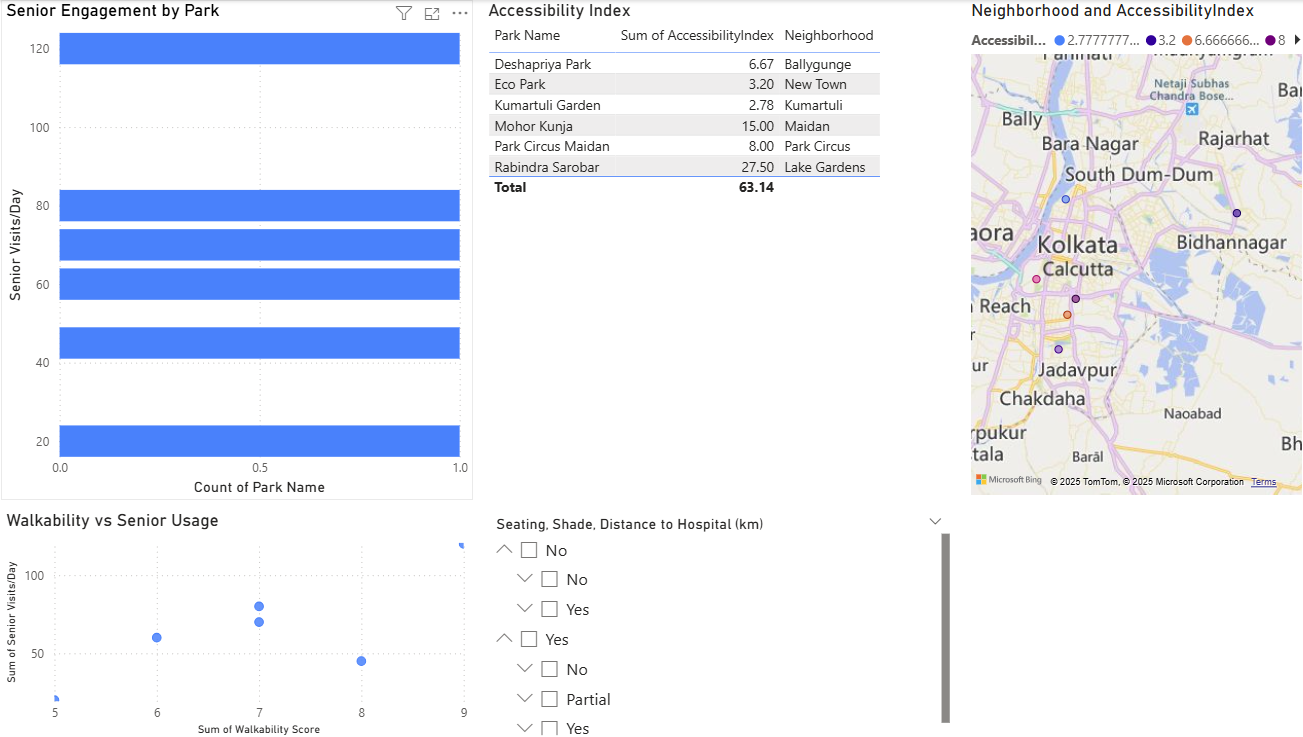

This screenshot's page, from the dashboard's own definition file:
{"tool":"powerbi","page":{"name":"Page 1","canvas":[1280,720],"ordinal":0},"visuals":[{"type":"barChart","title":"Senior Engagement by Park","fields":{"Y":["CountNonNull(Sheet1.Park Name)"],"Category":["Sheet1.Senior Visits/Day"]},"box":[9.7,0,459.1,486.3],"z":0},{"type":"scatterChart","title":"Walkability vs Senior Usage","fields":{"X":["Sum(Sheet1.Walkability Score)"],"Y":["Sum(Sheet1.Senior Visits/Day)"],"Category":["Sheet1.Park Name"]},"box":[10,496,459,224],"z":1000},{"type":"tableEx","title":"Accessibility Index","fields":{"Values":["Sheet1.Park Name","Sum(Sheet1.AccessibilityIndex)","Sheet1.Neighborhood"]},"box":[479,0,459,486],"z":2000},{"type":"slicer","fields":{"Values":["Sheet1.Seating","Sheet1.Shade","Sheet1.Distance to Hospital (km)"]},"box":[479,496,459,224],"z":3000},{"type":"map","fields":{"Category":["Sheet1.Neighborhood"],"Series":["Sheet1.AccessibilityIndex"]},"box":[948,0,332,486],"z":4000}]}

Visuals, with their boxes in screenshot pixels (x1, y1, x2, y2), scaled from the page's 1280x720 canvas onto the 1303x737 screenshot:
"Senior Engagement by Park" barChart: 10 0 477 498
"Walkability vs Senior Usage" scatterChart: 10 508 477 736
"Accessibility Index" tableEx: 488 0 955 497
slicer - Sheet1.Seating x Sheet1.Shade: 488 508 955 736
map - Sheet1.Neighborhood x Sheet1.AccessibilityIndex: 965 0 1302 497
